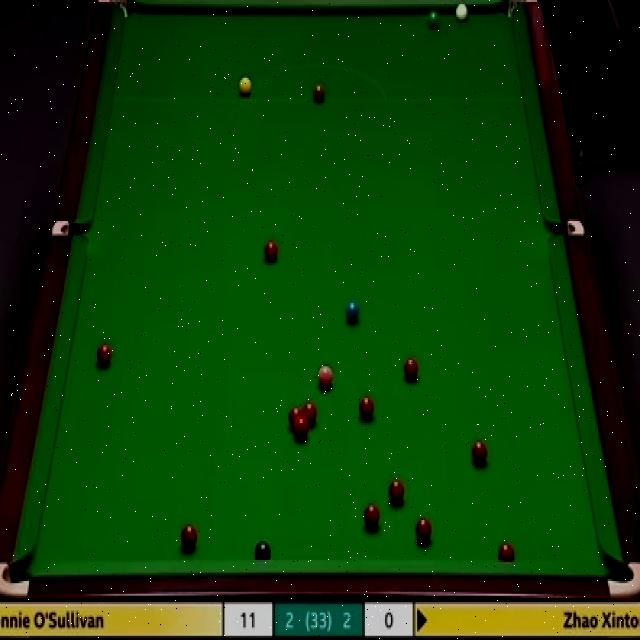black-ball: (254, 540, 273, 562)
blue-ball: (345, 302, 362, 325)
brown-ball: (312, 80, 325, 101)
green-ball: (426, 10, 441, 30)
pink-ball: (317, 365, 334, 391)
red-ball: (180, 522, 198, 551), (387, 478, 404, 508), (356, 392, 374, 420), (415, 518, 433, 546), (362, 504, 380, 530), (470, 440, 488, 466), (404, 355, 421, 382), (95, 340, 112, 366), (288, 406, 303, 432), (497, 541, 516, 559), (303, 402, 317, 426), (265, 238, 277, 266), (295, 420, 310, 440)
white-ball: (455, 3, 468, 21)
yellow-ball: (238, 78, 251, 95)
